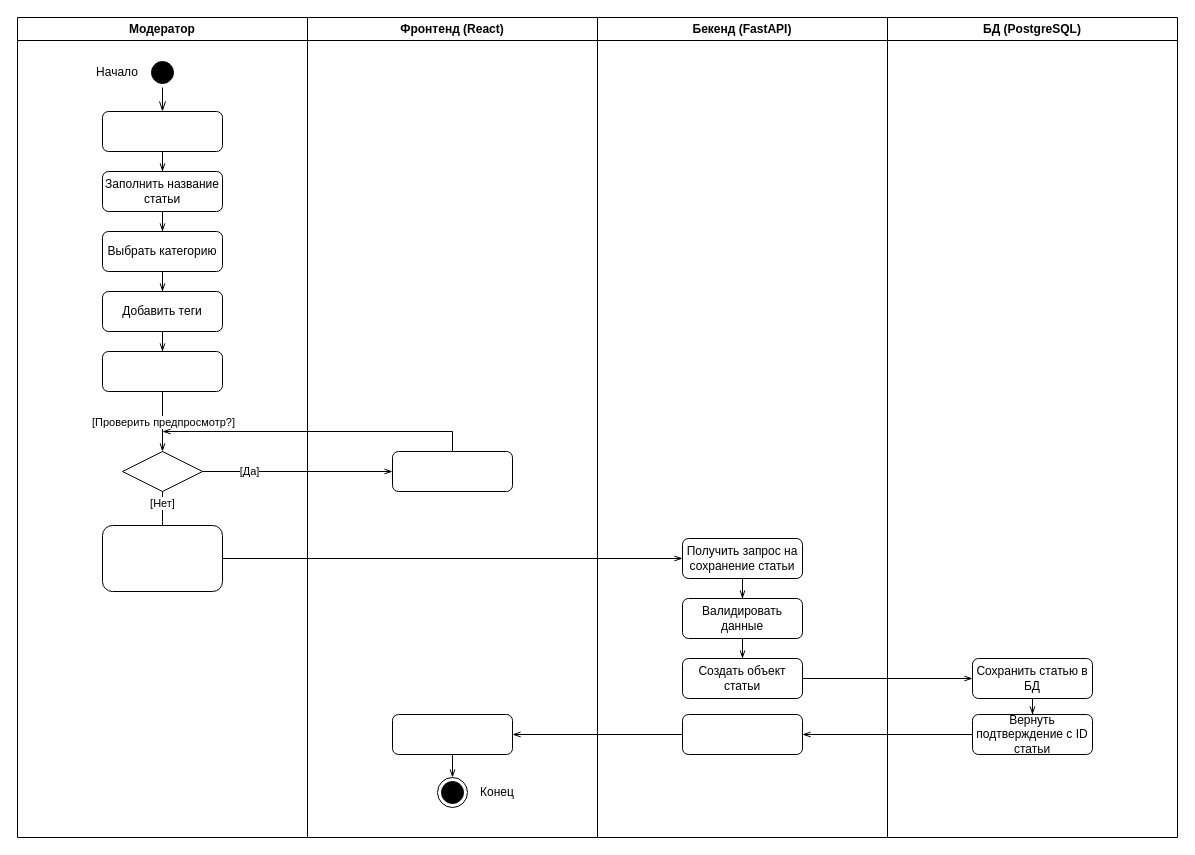
Some shapes in this 1195 by 855 pixel diagram are drawn without their labels. The shapes that lost their labels are listed below. From the top down, each one's centre as x and y in pixels, then its label:
the point at 162,131: Нажать "Создать новую"
the point at 162,371: Ввести содержимое
the point at 452,471: Отобразить предпросмотр
the point at 162,558: Выбрать статус "Опубликовать / Сохранить как черновик"
the point at 452,734: Показать сообщение об успехе
the point at 742,734: Получить подтверждение сохранения
